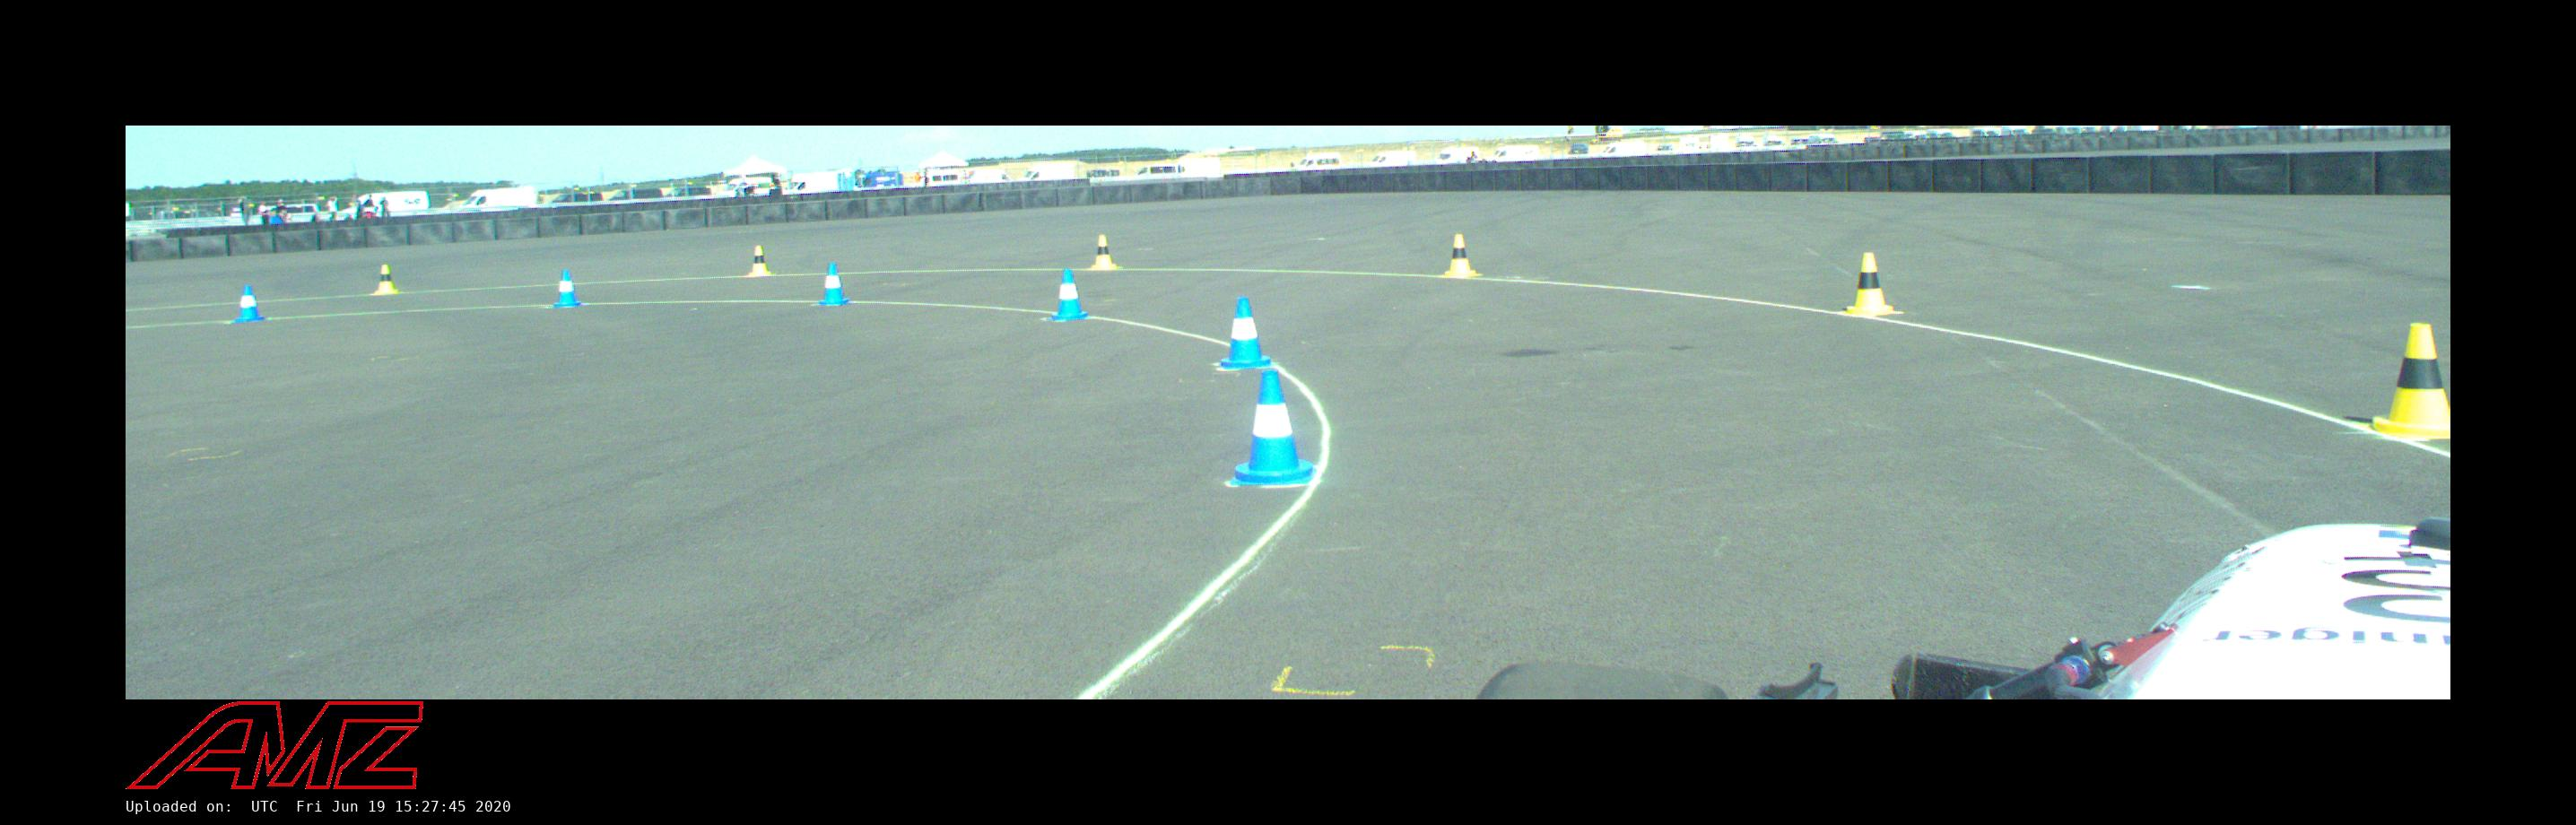blue_cone: (1229, 370, 1316, 486), (1219, 297, 1275, 368), (1048, 268, 1089, 320), (813, 263, 851, 306), (230, 286, 264, 322), (550, 270, 582, 307)
yellow_cone: (2367, 322, 2449, 439), (1842, 253, 1904, 314), (1439, 233, 1482, 278), (1091, 235, 1117, 270), (371, 265, 399, 296), (748, 245, 774, 276)
